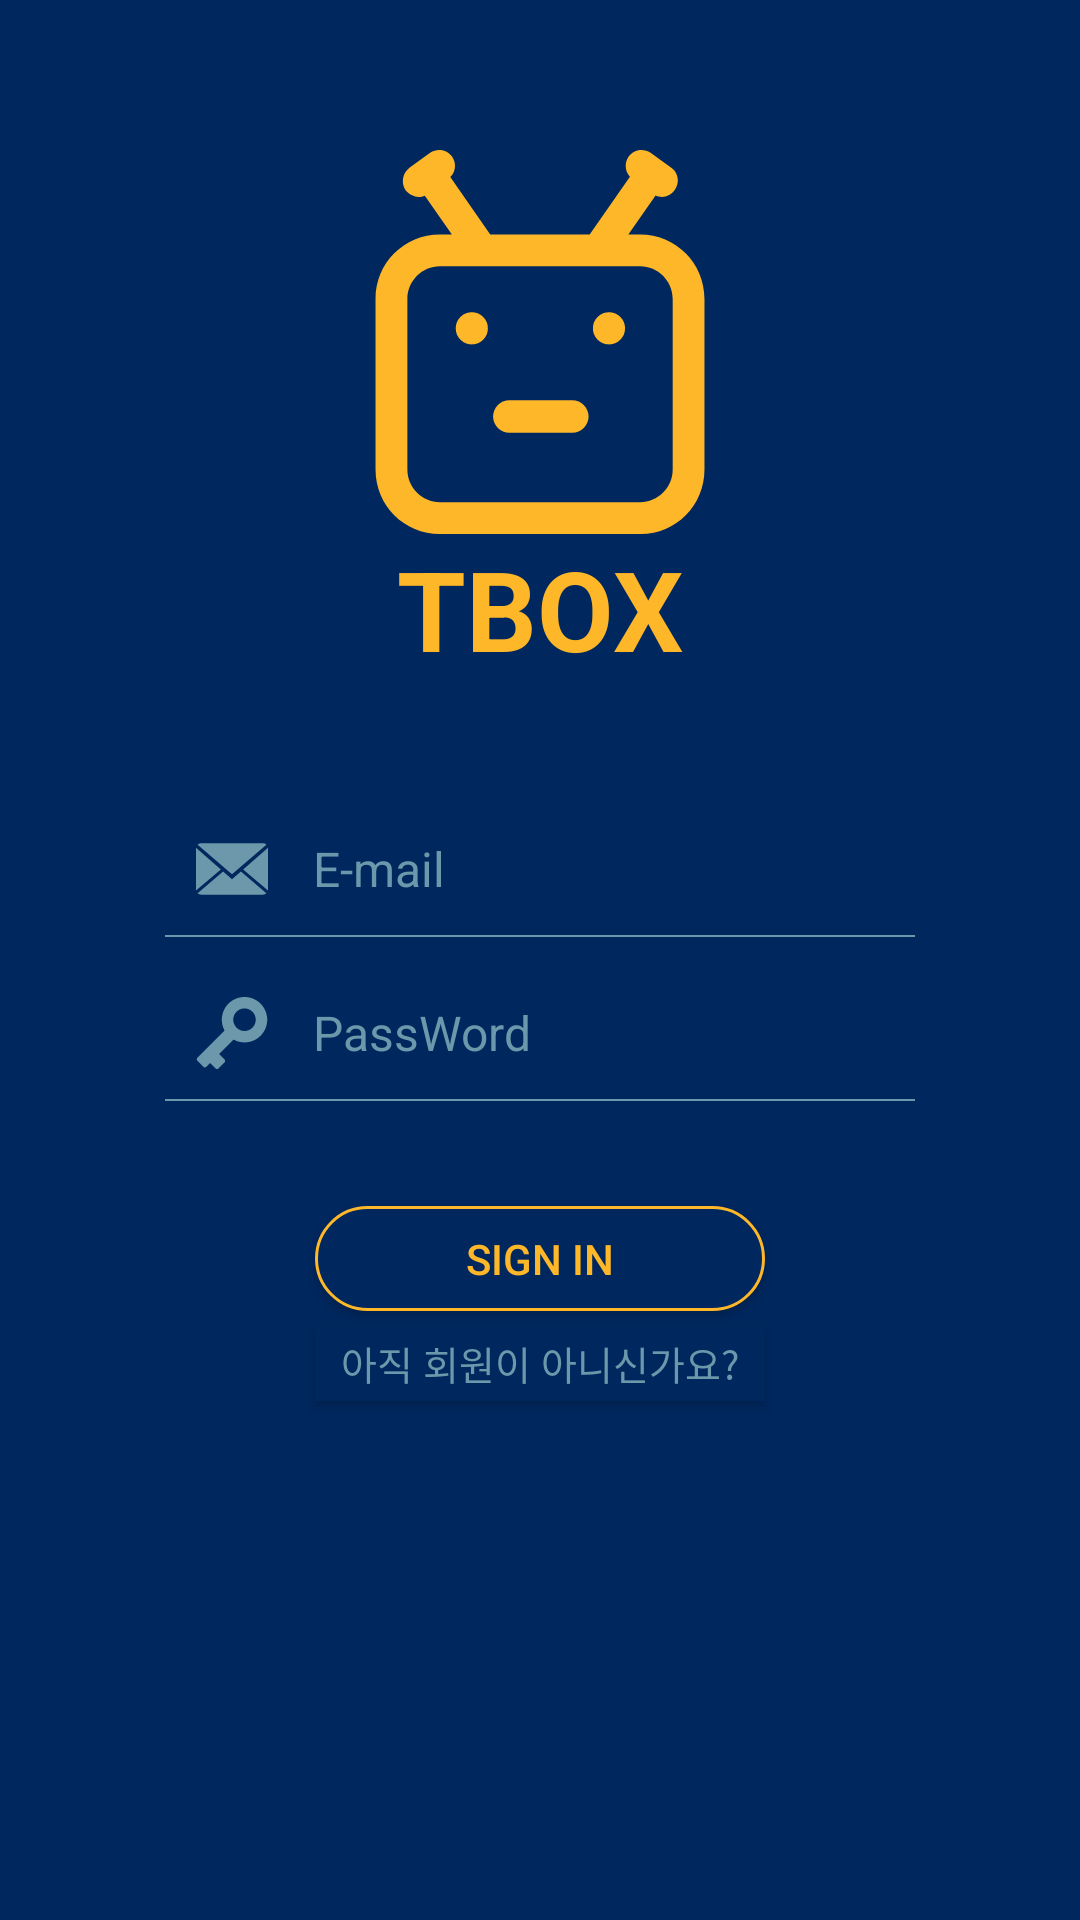

Icon click points for this 1080w x 1920h phone screenshot, format (x,y):
mailicon: (232,869)
